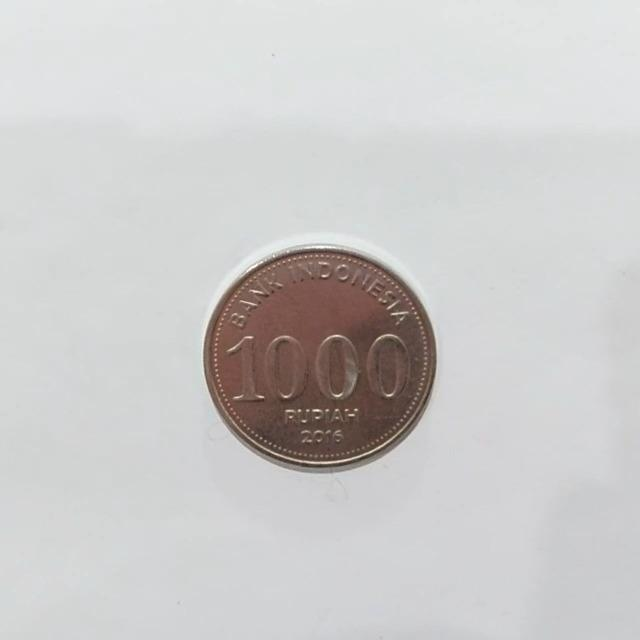Rp100: (201, 238, 438, 474)
